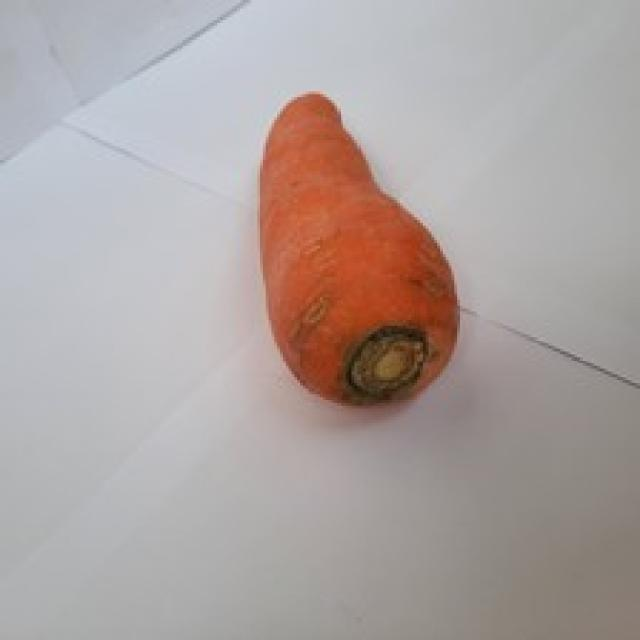Fresh_Carrot: (253, 88, 454, 394)
